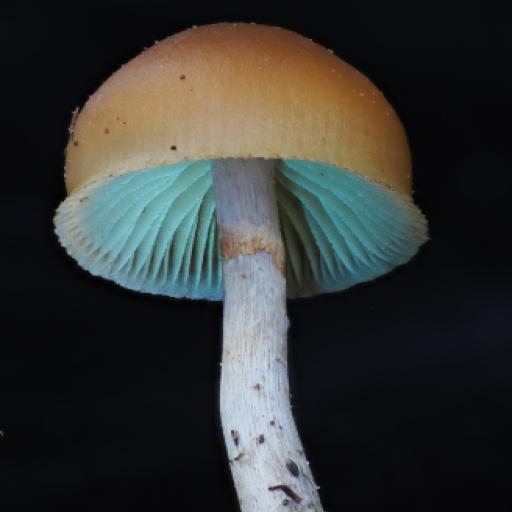mushroom: (47, 11, 442, 426)
